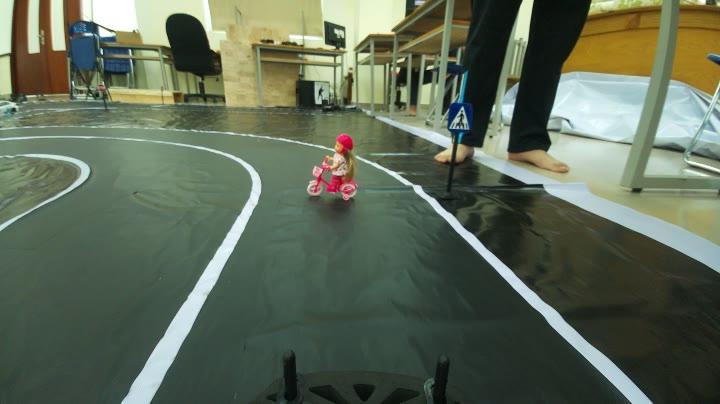crosswalk: (440, 98, 476, 140)
pedestrian: (311, 136, 365, 204)
